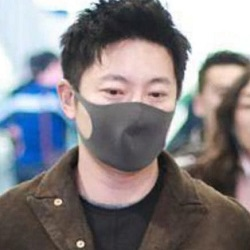mask: (64, 79, 175, 170)
